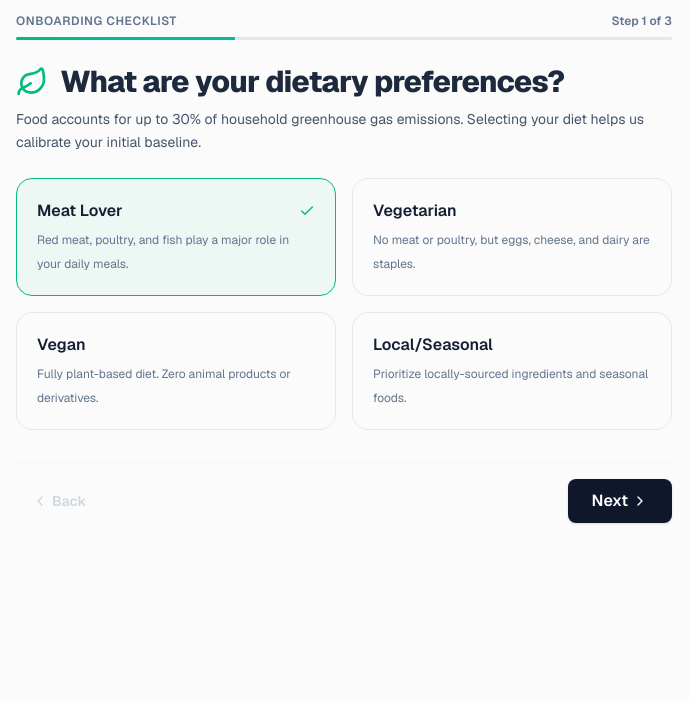
Test: Onboarding Component › navigates to step 2 on clicking next
The width and height of the screenshot is (689, 701).
# Click on Vegetarian diet option
What coordinates should you click on to do the following:
click the radio button "Vegetarian"
I would click on:
 (512, 236)
Its box is [352,178,672,296].
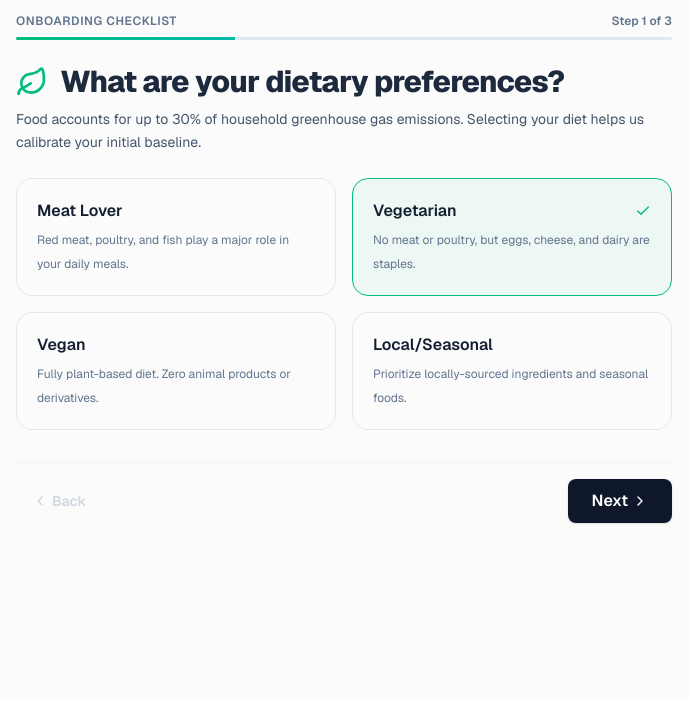
# Click Next
What coordinates should you click on to do the following:
click the button with aria-label "Next Step"
I would click on:
 (620, 500)
Its box is [568,478,672,522].
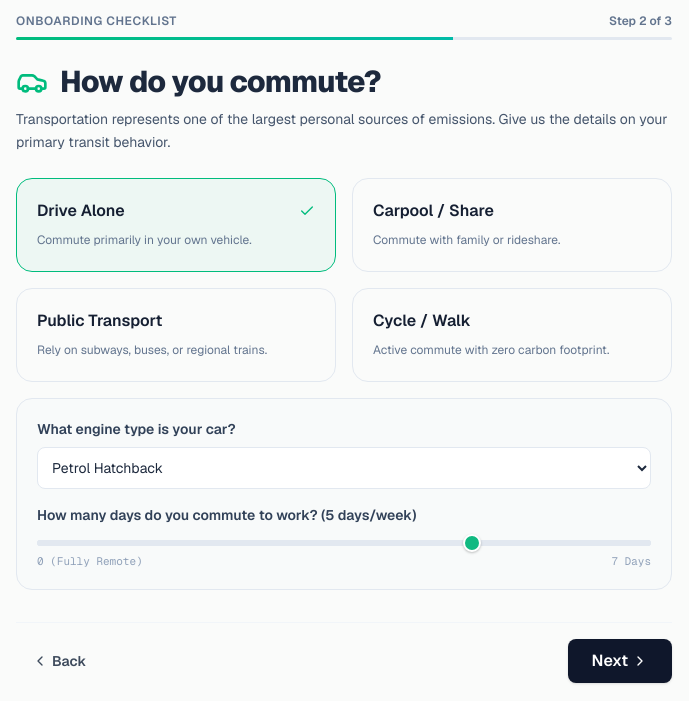
Now the heading "How do you commute?" is shown, box [60,64,381,100]
Now the text "Drive Alone" is shown, box [37,198,125,222]
